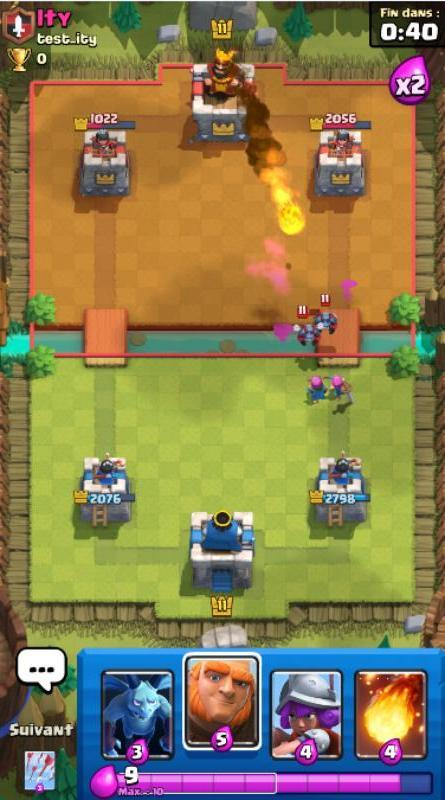enemy_fireball: (240, 126, 310, 239)
enemy_minions: (289, 311, 321, 349), (310, 298, 342, 333)
player_archers: (325, 370, 356, 403), (302, 369, 329, 403)
